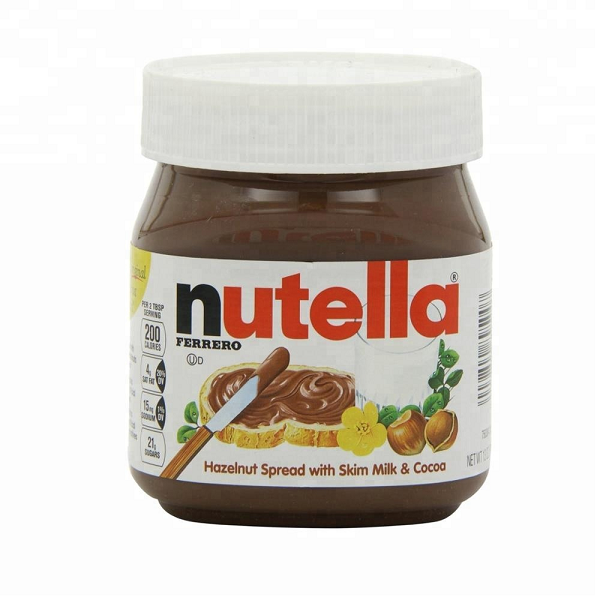nutella: (128, 53, 497, 530)
